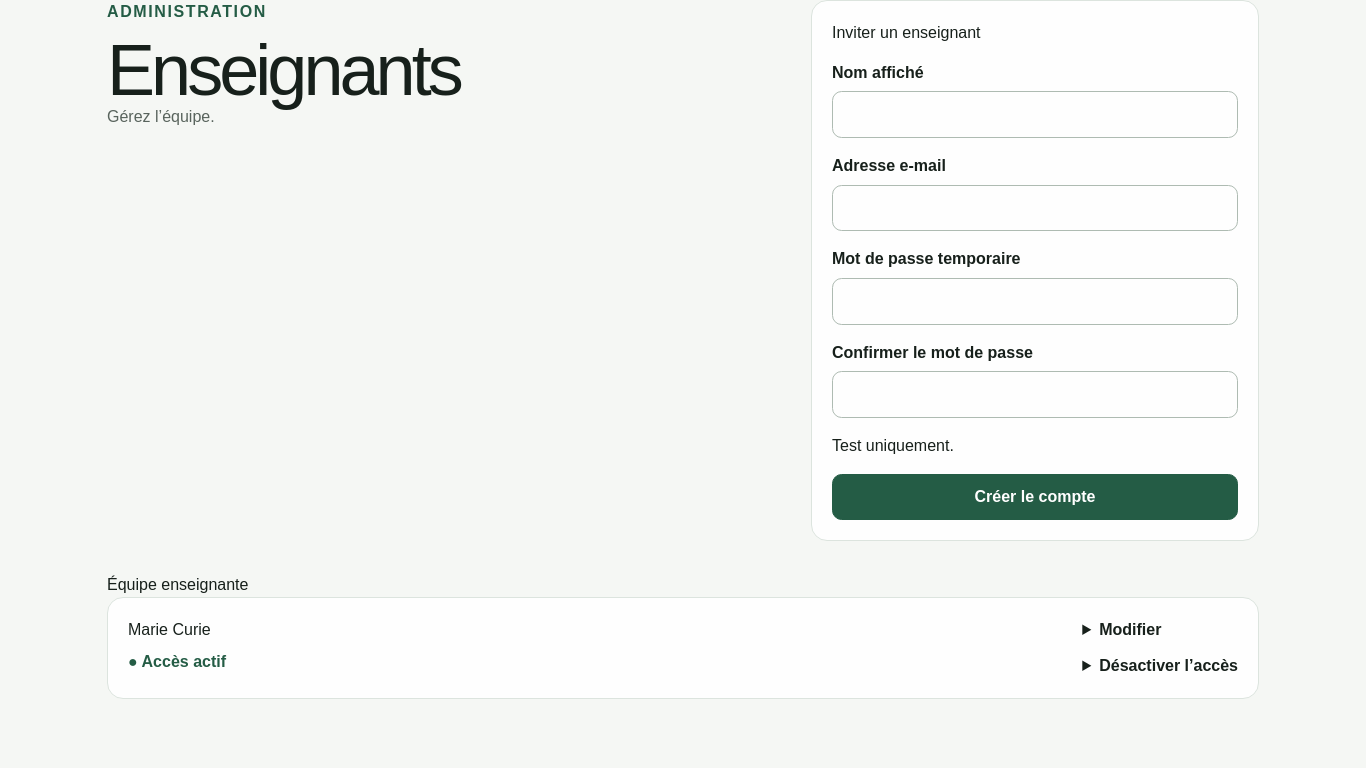
Test: teacher page › requires an explicit checkbox in the deactivation disclosure
Click the heading "Désactiver l’accès".
click(1160, 666)  # box [1082,654,1238,678]
(page scrolled)
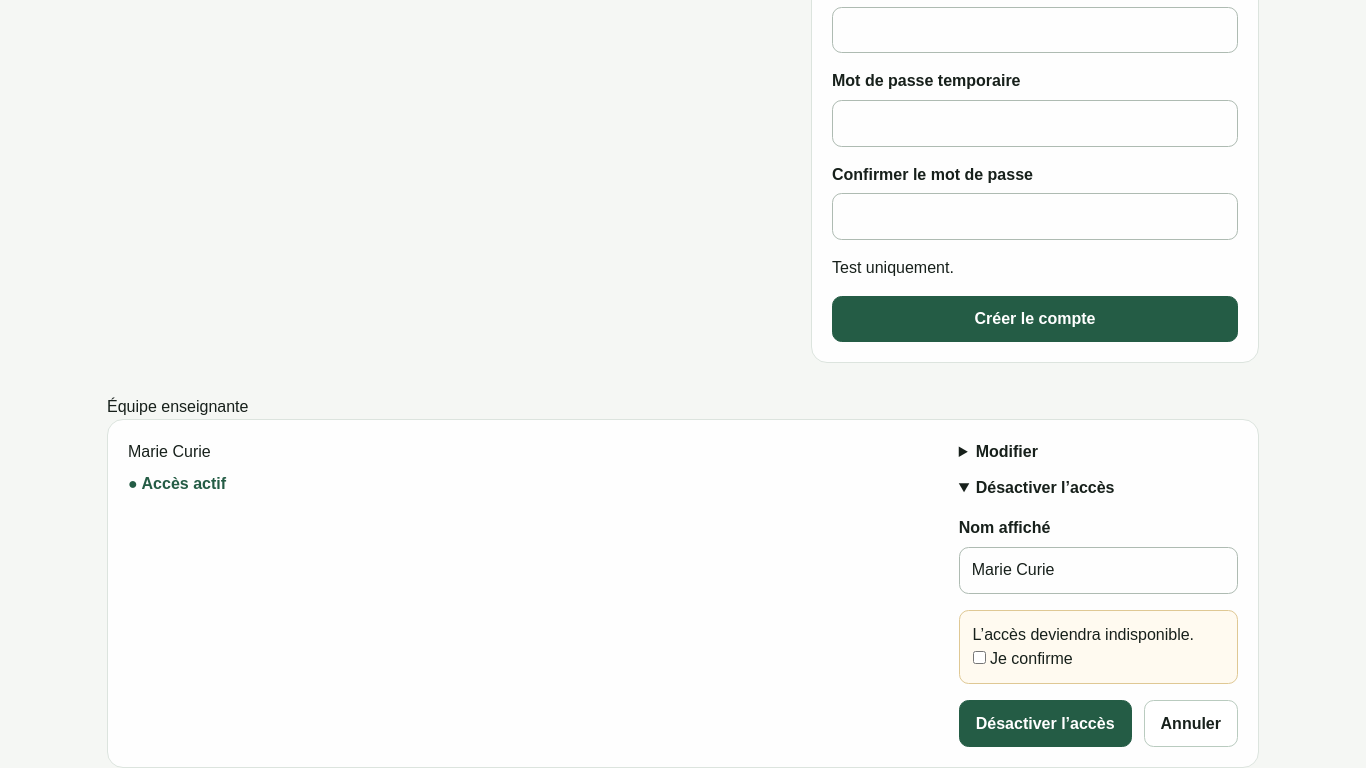
Check: the text "L’accès deviendra indisponible." is shown, box [973,623,1224,647]
